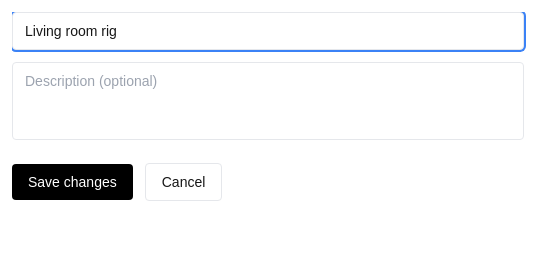
Test: EditSystemForm › Submission › shows a network error message when fetch throws
Step 1. Click the button "Save changes" → point(72, 182), box [12,164,133,200]
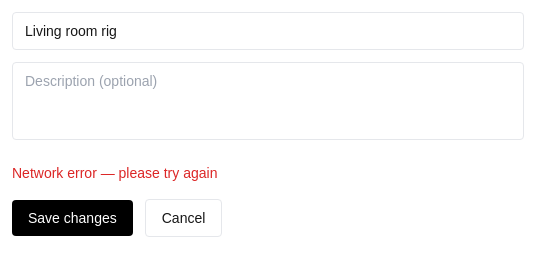
Expected: the text "Network error — please try again" is shown, [12,165,217,181]
